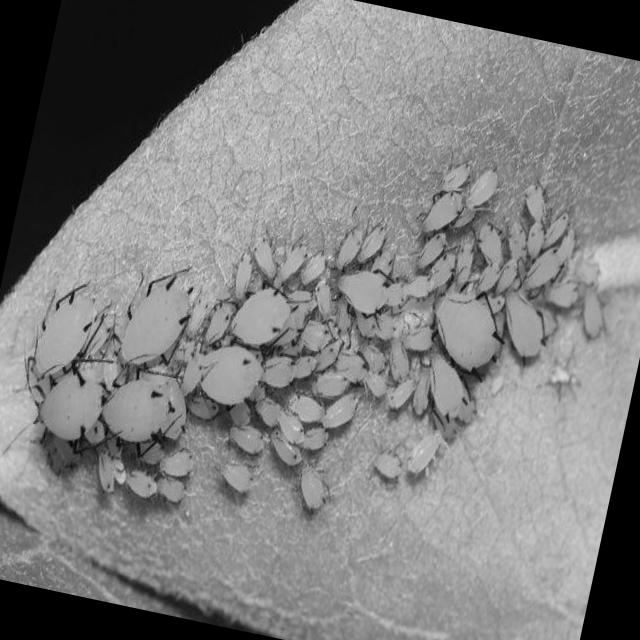Aphids: (102, 255, 202, 386), (416, 282, 514, 386), (85, 362, 186, 458), (23, 276, 108, 385), (21, 370, 111, 458), (222, 268, 306, 354), (190, 336, 270, 411), (492, 285, 554, 363), (414, 348, 474, 423), (330, 262, 400, 324), (517, 240, 572, 303), (416, 180, 468, 243), (401, 420, 448, 483), (290, 459, 334, 515), (222, 414, 273, 461), (316, 385, 362, 437), (460, 162, 504, 216), (199, 295, 240, 352), (330, 220, 370, 278), (242, 234, 286, 286), (224, 247, 262, 306), (422, 246, 460, 298), (283, 388, 332, 428), (256, 348, 304, 388), (296, 244, 334, 294), (214, 456, 258, 496), (399, 316, 438, 358), (120, 464, 161, 503), (368, 446, 406, 484), (384, 376, 416, 412)
